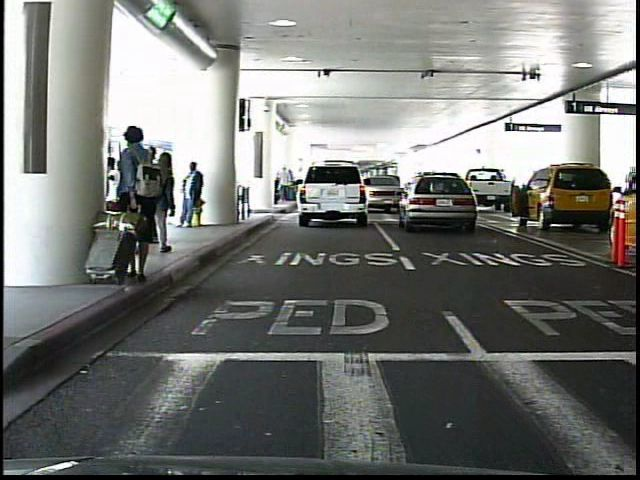person: (115, 123, 167, 287), (143, 145, 171, 239), (178, 158, 207, 232), (615, 163, 637, 214)
